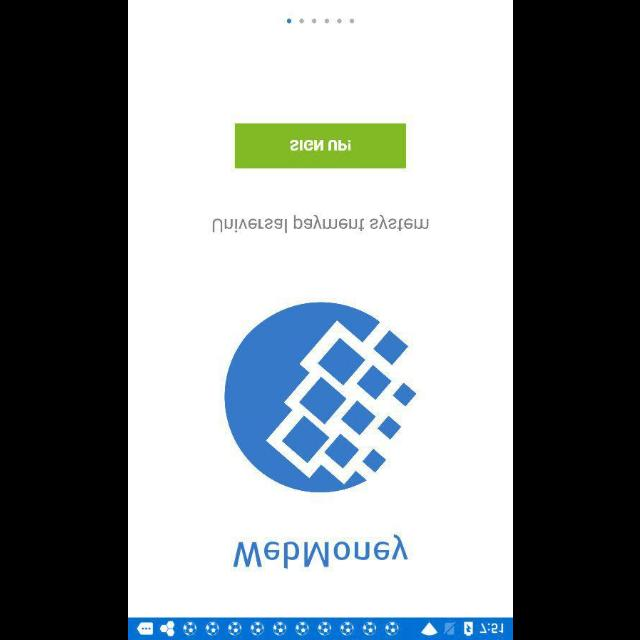image: (222, 301, 416, 493)
pageindicator: (286, 18, 354, 24)
text: (232, 533, 408, 569), (212, 214, 428, 234)
textbutton: (234, 124, 406, 168)
uppertaskbar: (128, 617, 512, 639)
